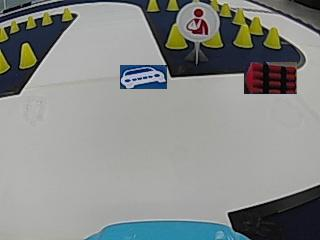cone: (165, 23, 187, 49), (19, 43, 37, 69), (234, 24, 252, 48), (263, 27, 281, 49), (204, 27, 222, 49), (0, 47, 10, 73), (250, 16, 262, 34), (232, 8, 245, 24), (61, 8, 73, 21), (219, 3, 231, 16), (26, 15, 37, 29), (0, 25, 9, 42), (147, 0, 159, 12), (41, 12, 52, 25), (166, 0, 178, 10), (10, 19, 19, 32)
patient: (185, 4, 214, 42)
